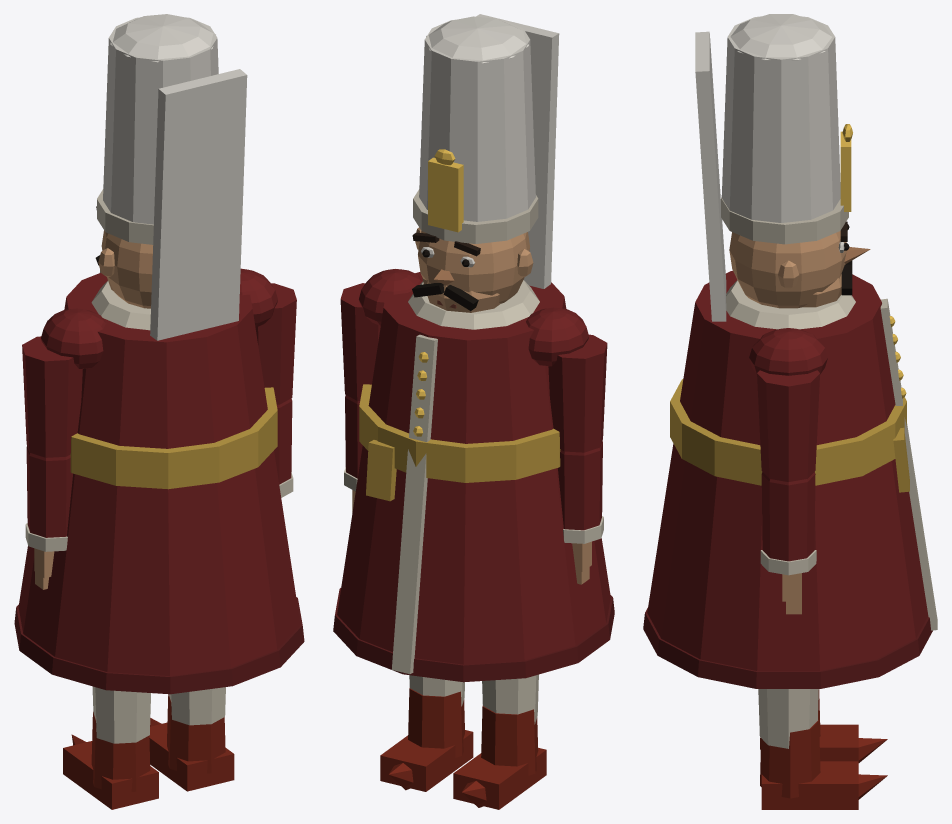
Rendered from yeniceri-2.glb.
The picture shows the model from 3 angles, left to right: view 1: azimuth 30°, elevation 25°; view 2: azimuth 150°, elevation 25°; view 3: azimuth 270°, elevation 25°; orthographic projection. The views are drawn at different scales.
Parts seen in each view (by area): view 1: govde, bas, kolL, bacakL, bacakR, kolR; view 2: govde, bas, kolL, bacakL, bacakR, kolR; view 3: govde, bas, kolR, bacakR, bacakL.
Boxes of the visible parts, x1,y1,x2,y2 form: govde: (14, 268, 304, 694); bas: (95, 14, 247, 340); kolL: (22, 336, 82, 589); bacakL: (63, 686, 158, 809); bacakR: (149, 687, 234, 791); kolR: (255, 283, 296, 497); govde: (333, 269, 614, 682); bas: (412, 14, 559, 312); kolL: (548, 334, 607, 584); bacakL: (453, 674, 546, 809); bacakR: (380, 675, 473, 791); kolR: (340, 283, 380, 512); govde: (643, 270, 937, 688); bas: (695, 14, 870, 321); kolR: (757, 370, 819, 614); bacakR: (758, 689, 887, 809); bacakL: (760, 689, 887, 762).
Bounding box in the file's own units: 0.856 × 2.34 × 0.8207.
